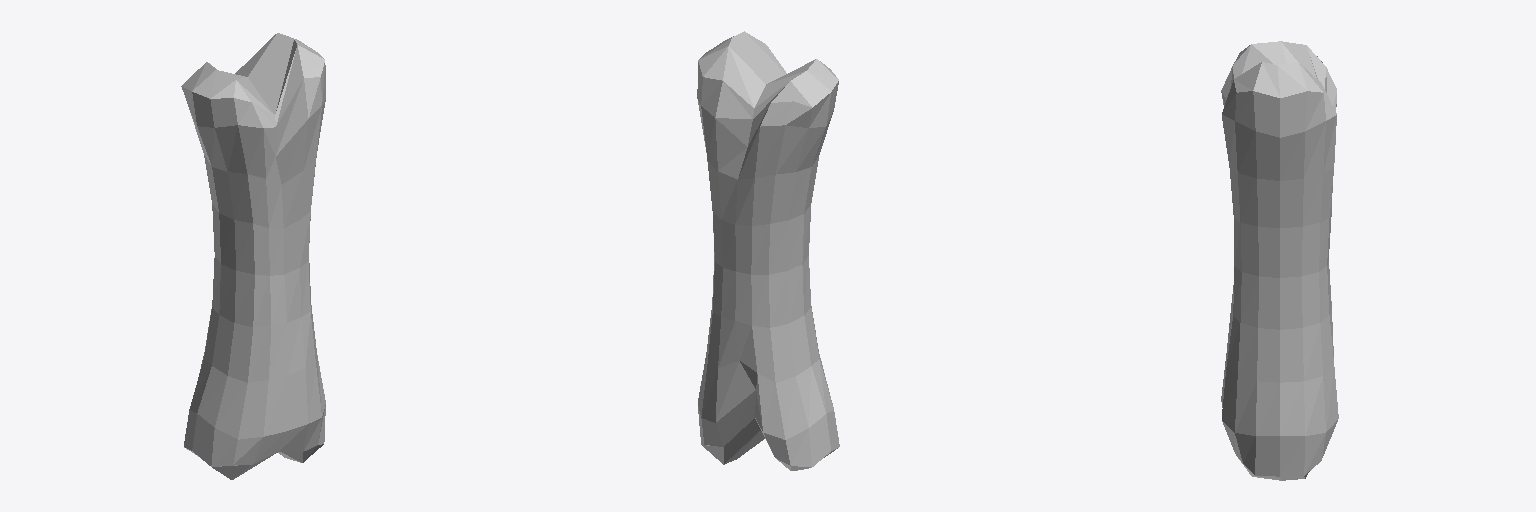
File: bone_01.obj
3 renders of one model, left to right at view 1: azimuth 30°, elevation 25°; view 2: azimuth 150°, elevation 25°; view 3: azimuth 270°, elevation 25°, orthographic.
Visible parts, largest first — view 1: Group28507, Group9799; view 2: Group28507, Group9799; view 3: Group28507, Group9799.
Part boxes in pixels (left/top/right/bottom): Group28507: left=181, top=63, right=325, bottom=466; Group9799: left=182, top=33, right=324, bottom=479; Group28507: left=697, top=62, right=839, bottom=467; Group9799: left=698, top=31, right=838, bottom=470; Group28507: left=1221, top=66, right=1338, bottom=476; Group9799: left=1231, top=41, right=1325, bottom=480.
Bounding box in the file's own units: 0.4102 × 1.29 × 0.3285.